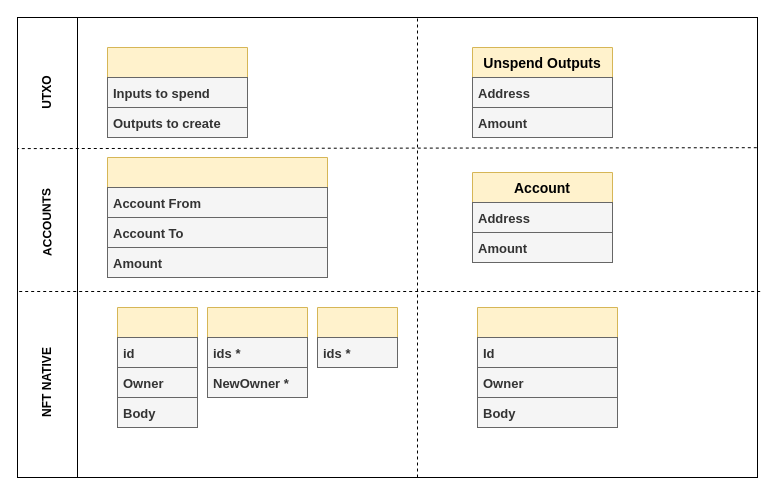
The diagram is 777 pixels wide and 494 high, and some of its shapes have lost their labels. The box of each missing label's shape, as (x1, y1, x2, y2) in pixels:
Account TX: (106, 156, 328, 278)
Burn: (316, 306, 398, 368)
Deal: (206, 306, 308, 398)
Issue: (116, 306, 198, 428)
Token: (476, 306, 618, 428)
UTXO TX: (106, 46, 248, 138)
